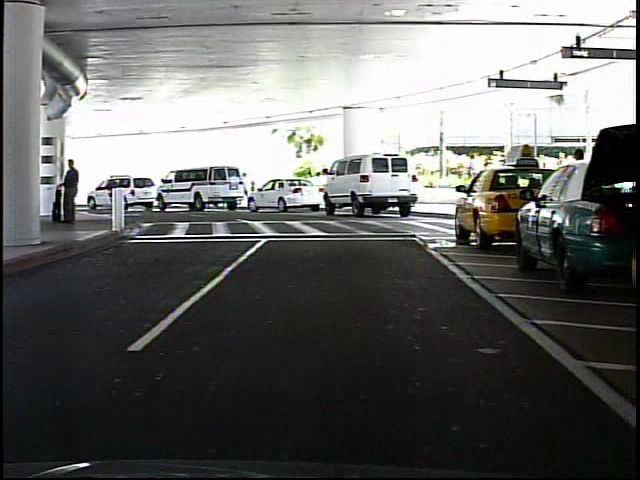person: (563, 140, 591, 238), (63, 157, 82, 223), (243, 170, 254, 191)
